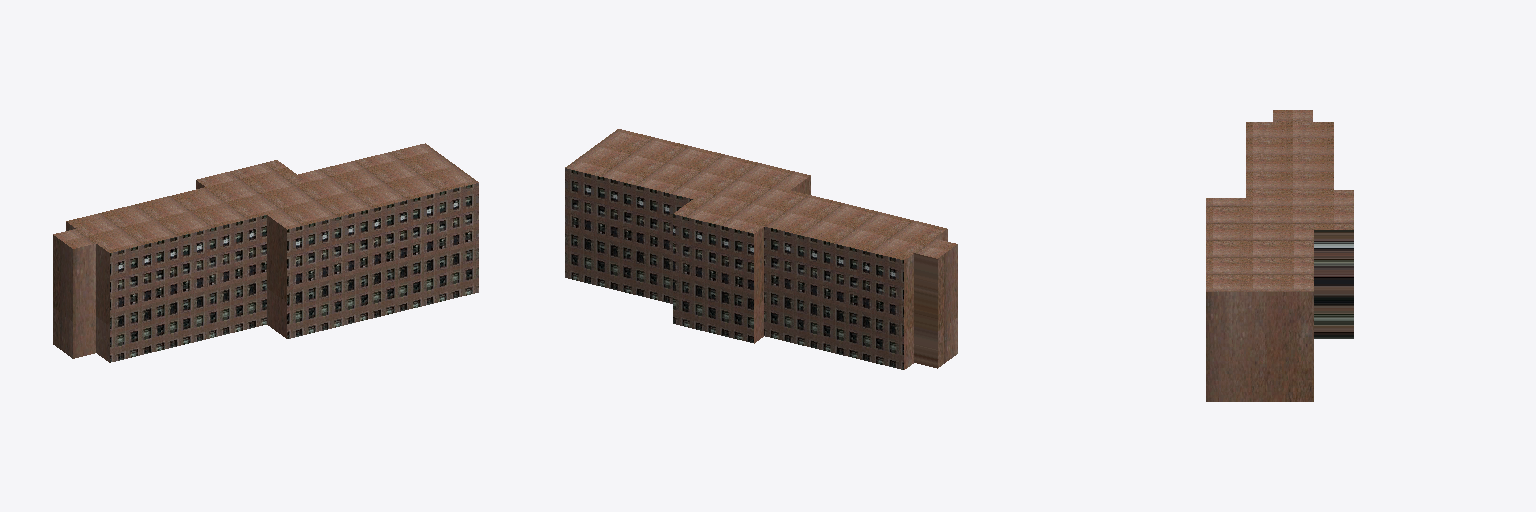
3 renders of one model, left to right at view 1: azimuth 30°, elevation 25°; view 2: azimuth 150°, elevation 25°; view 3: azimuth 270°, elevation 25°, orthographic.
Visible parts, largest first — view 1: VMtl1694, VMtl1696; view 2: VMtl1694, VMtl1696; view 3: VMtl1696, VMtl1694.
Part boxes in pixels (x1,y1,x2,y2): VMtl1694: (110, 183, 478, 362); VMtl1696: (53, 143, 478, 362); VMtl1694: (565, 168, 903, 369); VMtl1696: (565, 129, 957, 369); VMtl1696: (1206, 110, 1353, 401); VMtl1694: (1314, 230, 1353, 338).
Size of the model in its own units: 77.19 by 21.7 by 26.54.
Materials: 3 (2 with a texture image).